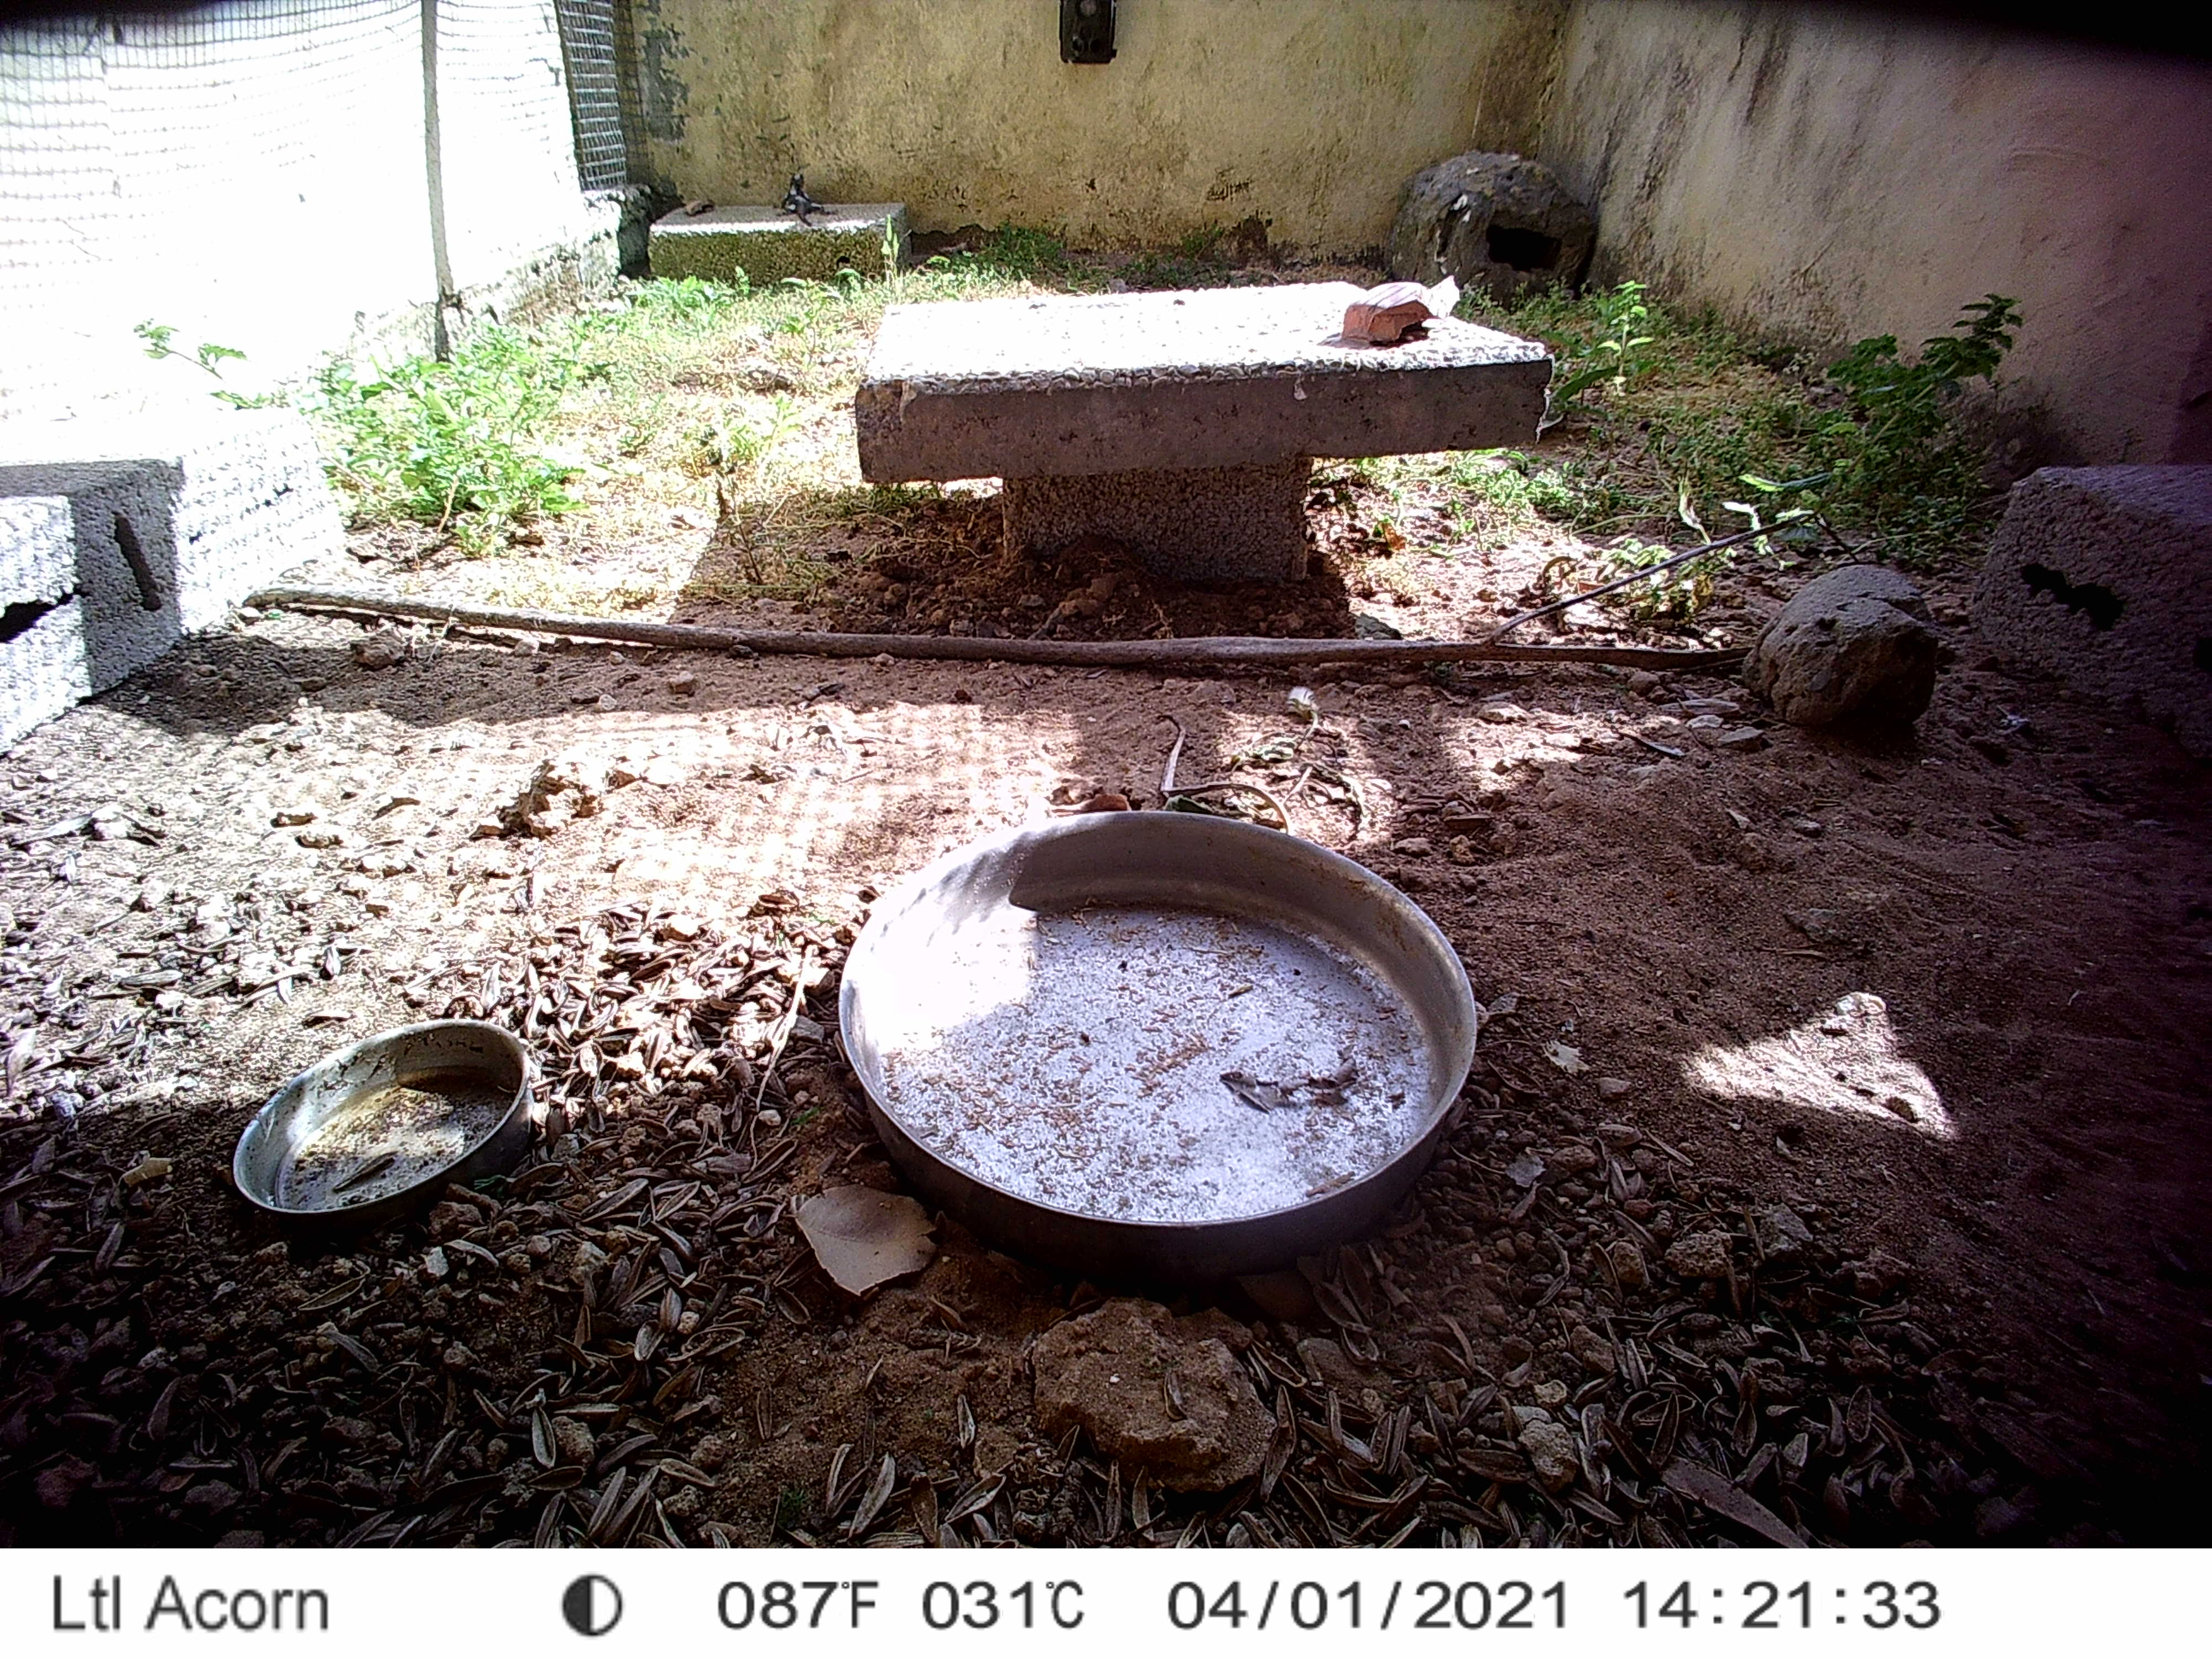lizard: (775, 171, 840, 232)
